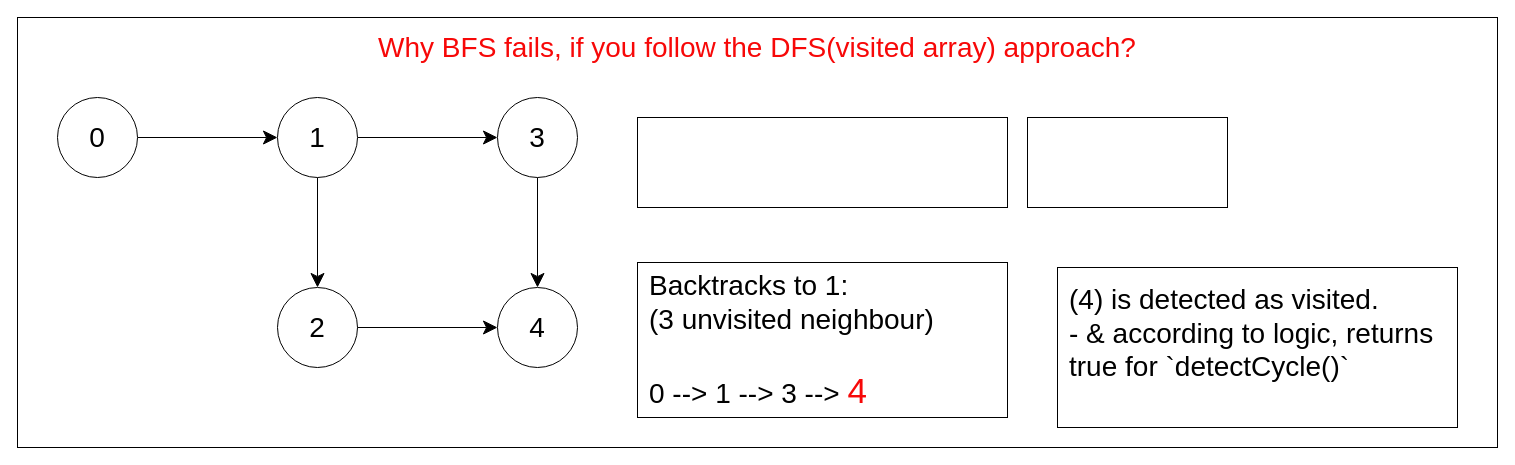
The diagram is 1515 pixels wide and 465 high, and some of its shapes have lost their labels. The shapes that lost their labels are listed below. From the top down, each one's centre as x and y in pixels, then its label:
pixel 822 162: Path: 0 --> 1 --> 2 --> 4
pixel 1127 162: Visited [0, 1, 2, 4]
